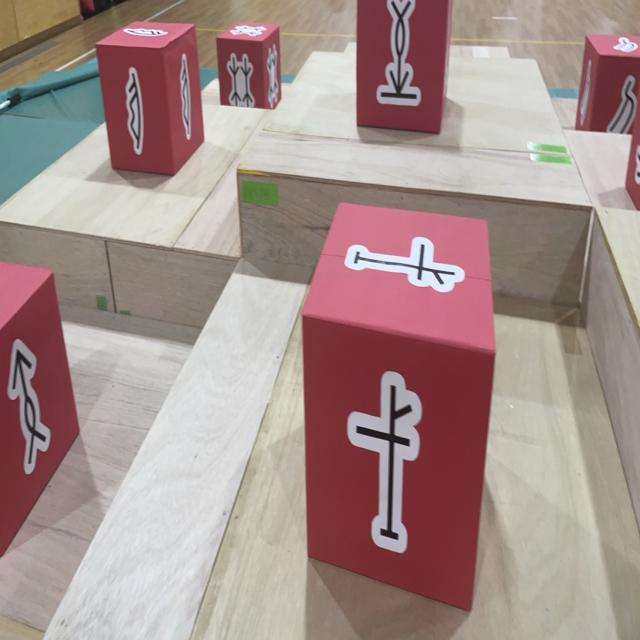10: (606, 74, 638, 133), (579, 60, 592, 125), (613, 36, 638, 52)
11: (126, 66, 145, 156), (180, 52, 192, 140), (125, 27, 168, 37)
12: (8, 339, 50, 475)
6: (228, 52, 255, 108), (266, 44, 280, 108), (230, 24, 266, 37)
7: (376, 0, 420, 107)
9: (348, 370, 422, 553), (344, 234, 466, 294)
fighter: (302, 201, 497, 611), (0, 259, 80, 558), (95, 19, 205, 177), (357, 0, 452, 134), (575, 33, 640, 133), (216, 22, 281, 110), (625, 76, 640, 210)
